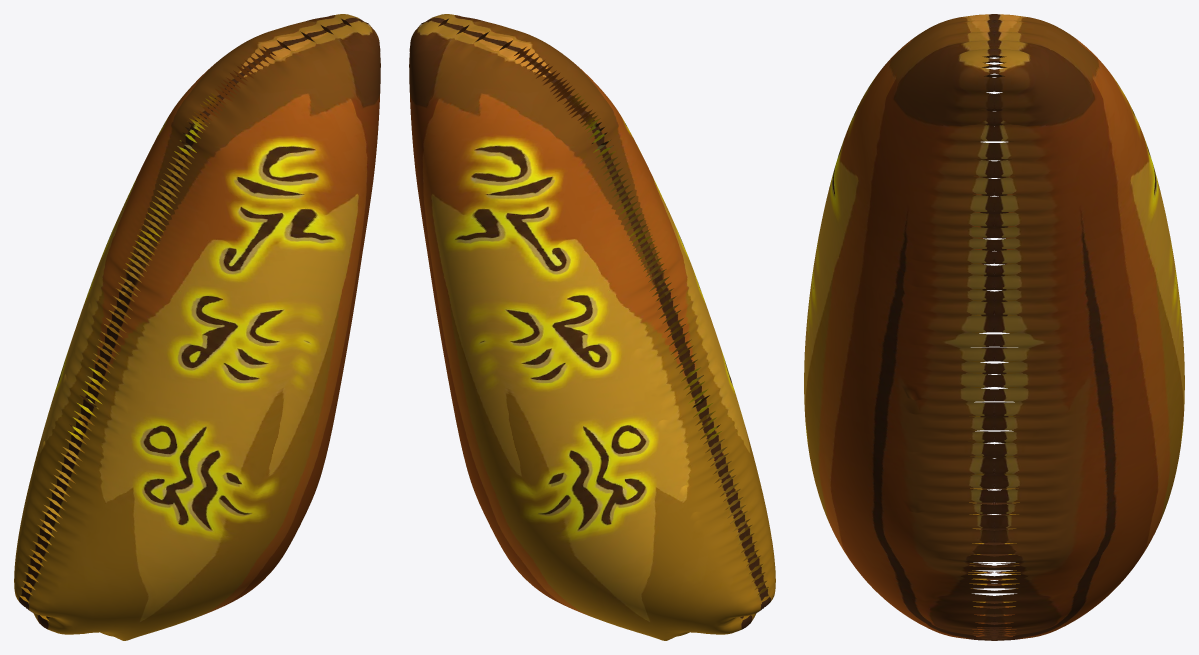
The model's file is amber_runestone.glb.
3 views of the same model, side by side, from view 1: azimuth 30°, elevation 25°; view 2: azimuth 150°, elevation 25°; view 3: azimuth 270°, elevation 25° (orthographic). The views are drawn at different scales.
Parts seen in each view (by area): view 1: amber_runestone; view 2: amber_runestone; view 3: amber_runestone.
Boxes of the visible parts, left/top/right/bottom form: amber_runestone: left=14, top=14, right=380, bottom=640; amber_runestone: left=409, top=14, right=775, bottom=640; amber_runestone: left=804, top=14, right=1184, bottom=640.
Bounding box in the file's own units: 0.9834 × 1.48 × 0.7364.
Materials: 1 (1 with a texture image).
